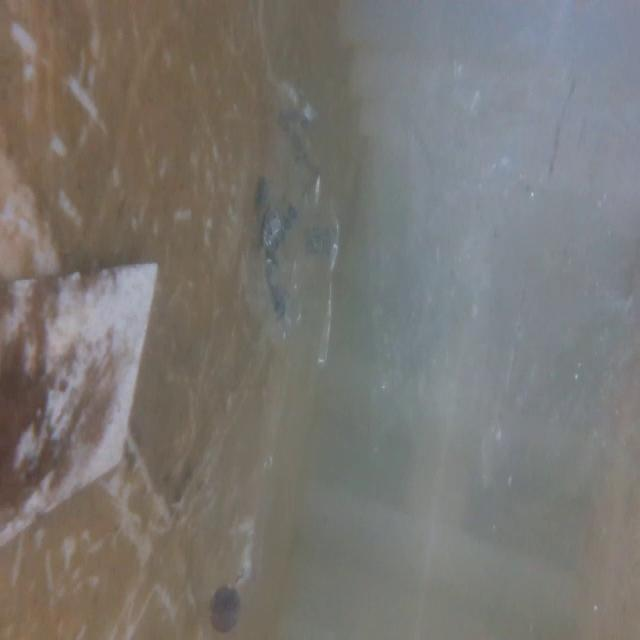plastic bags: (229, 79, 351, 377)
